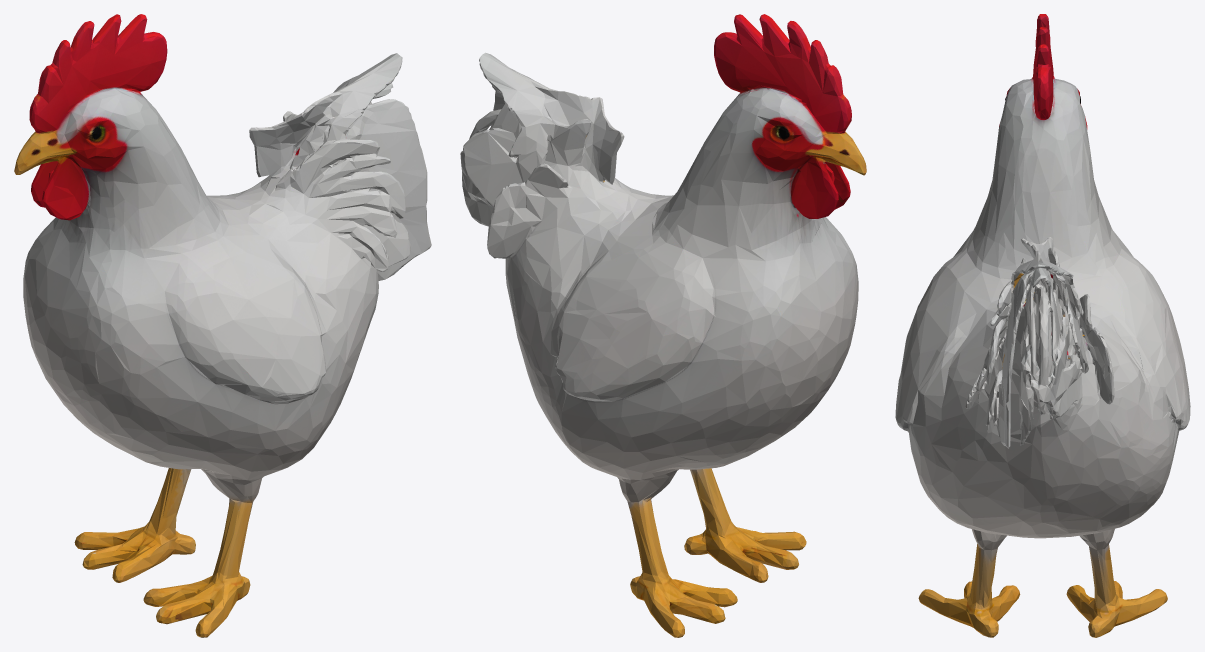
File: w_chicken.glb
The picture shows the model from 3 angles, left to right: view 1: azimuth 30°, elevation 25°; view 2: azimuth 150°, elevation 25°; view 3: azimuth 270°, elevation 25°; orthographic projection. The views are drawn at different scales.
Parts seen in each view (by area): view 1: textured_mesh.obj; view 2: textured_mesh.obj; view 3: textured_mesh.obj.
Boxes of the visible parts, x1=… form: textured_mesh.obj: x1=14, y1=14, x2=431, y2=637; textured_mesh.obj: x1=460, y1=14, x2=866, y2=637; textured_mesh.obj: x1=895, y1=14, x2=1190, y2=637.
Bounding box in the file's own units: 1.44 × 1.99 × 0.9425.
1 material, 1 textured.
